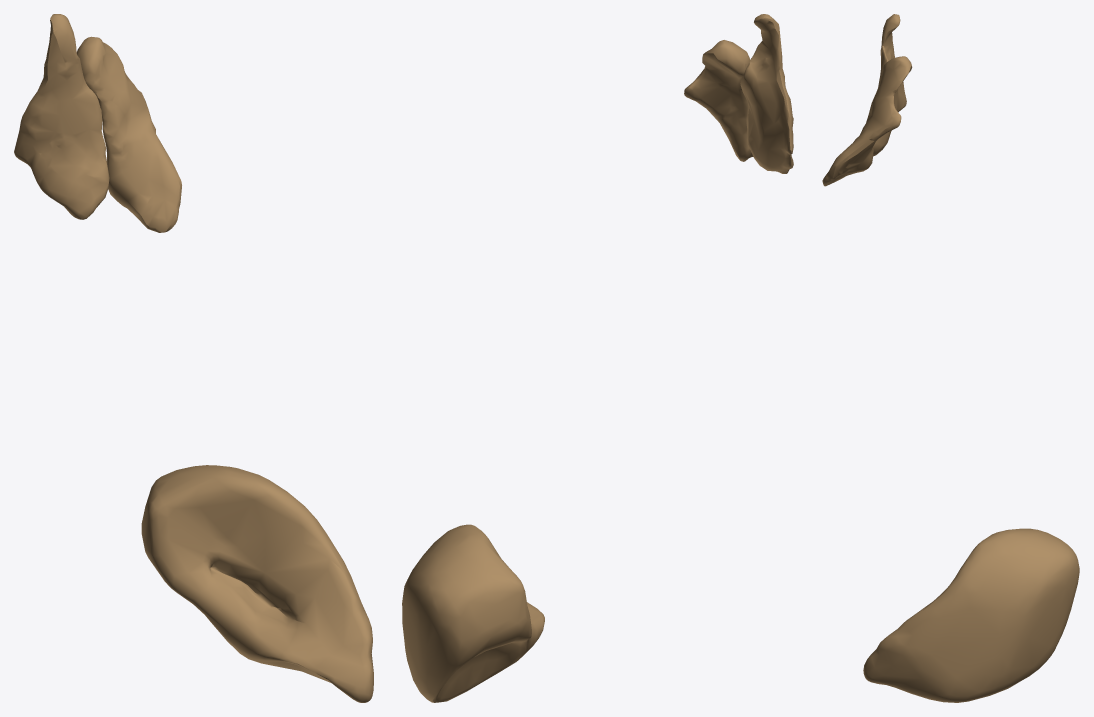
File: lymphatic.glb
3 views of the same model, side by side, from view 1: azimuth 30°, elevation 25°; view 2: azimuth 150°, elevation 25°; view 3: azimuth 270°, elevation 25° (orthographic). The views are drawn at different scales.
Parts seen in each view (by area): view 1: spleen, thymus; view 2: spleen, thymus; view 3: spleen, thymus.
Part boxes in pixels (<box>): spleen: <box>141,465,373,702</box>; thymus: <box>14,14,181,232</box>; spleen: <box>402,524,544,702</box>; thymus: <box>684,14,793,173</box>; spleen: <box>863,528,1079,702</box>; thymus: <box>822,14,912,186</box>.
Size of the model in its own units: 0.2772 by 0.5563 by 0.2262.
